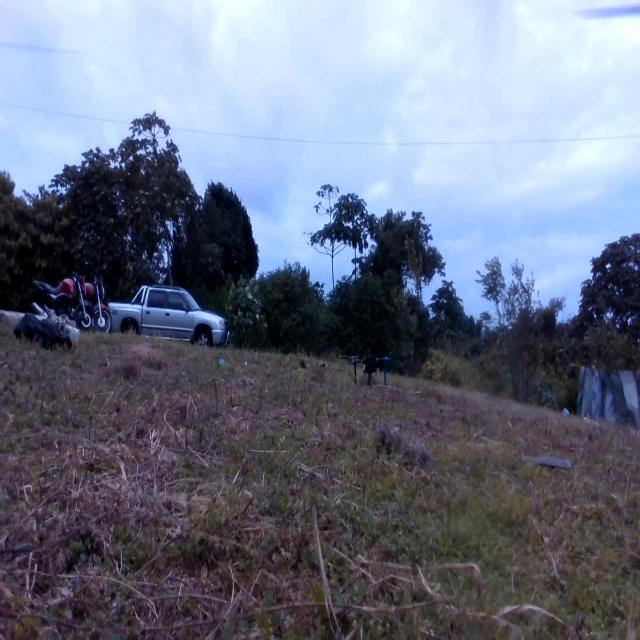-uav-: (345, 338, 397, 397)
